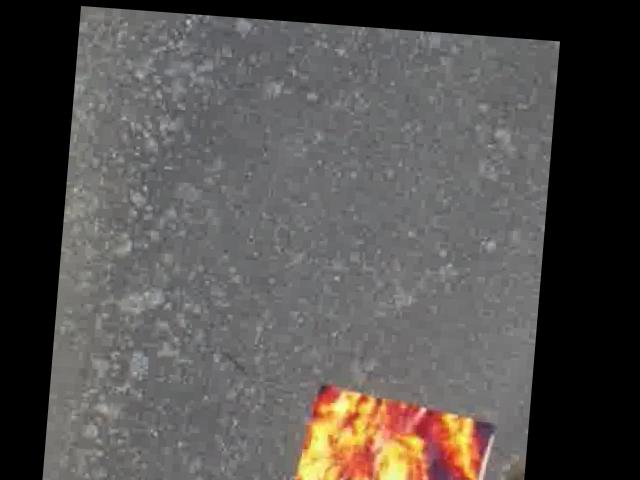fire-poster: (296, 377, 504, 480)
